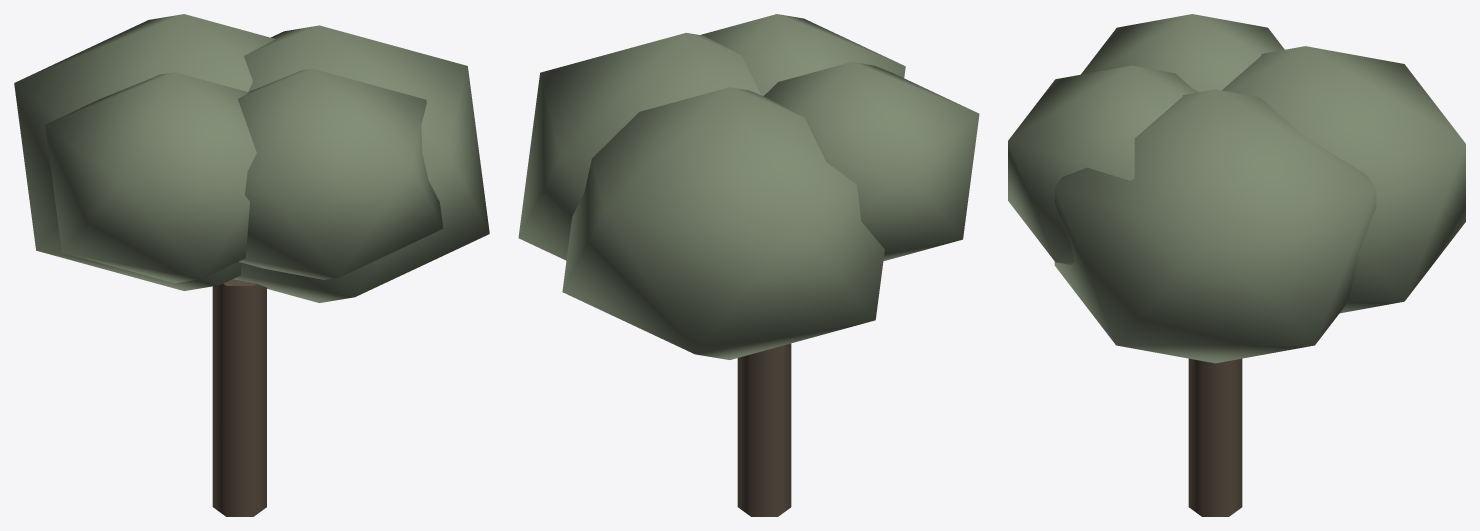
File: tf_sagebrush_0p9.glb
3 views of the same model, side by side, from view 1: azimuth 30°, elevation 25°; view 2: azimuth 150°, elevation 25°; view 3: azimuth 270°, elevation 25° (orthographic).
Visible parts, largest first — view 1: tf_sagebrush_0p9; view 2: tf_sagebrush_0p9; view 3: tf_sagebrush_0p9.
Boxes of the visible parts, left/top/right/bottom form: tf_sagebrush_0p9: left=14, top=14, right=489, bottom=516; tf_sagebrush_0p9: left=518, top=14, right=979, bottom=516; tf_sagebrush_0p9: left=1008, top=14, right=1465, bottom=516.
Size of what is drawn, in the model's own units: 0.8509 by 0.9 by 0.8184.
